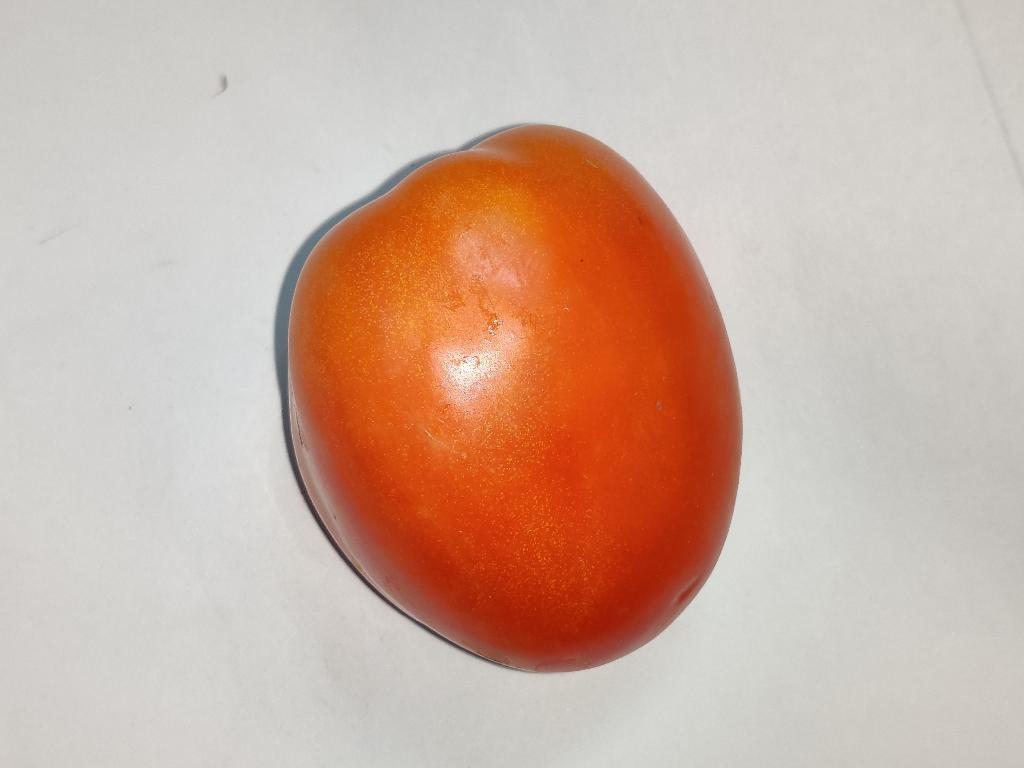tomato: (289, 126, 741, 669)
